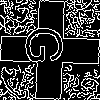G: (25, 25, 73, 65)
